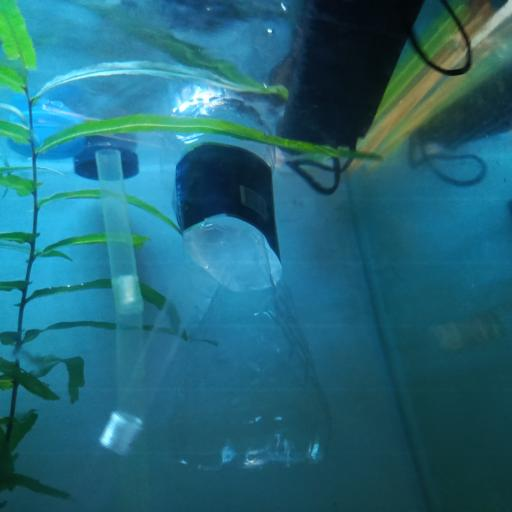bottle_cap: (77, 143, 141, 178)
plastic_bottle: (172, 97, 322, 466)
plastic_straw: (77, 257, 214, 512), (92, 146, 158, 504), (357, 0, 491, 169), (366, 0, 469, 146)
